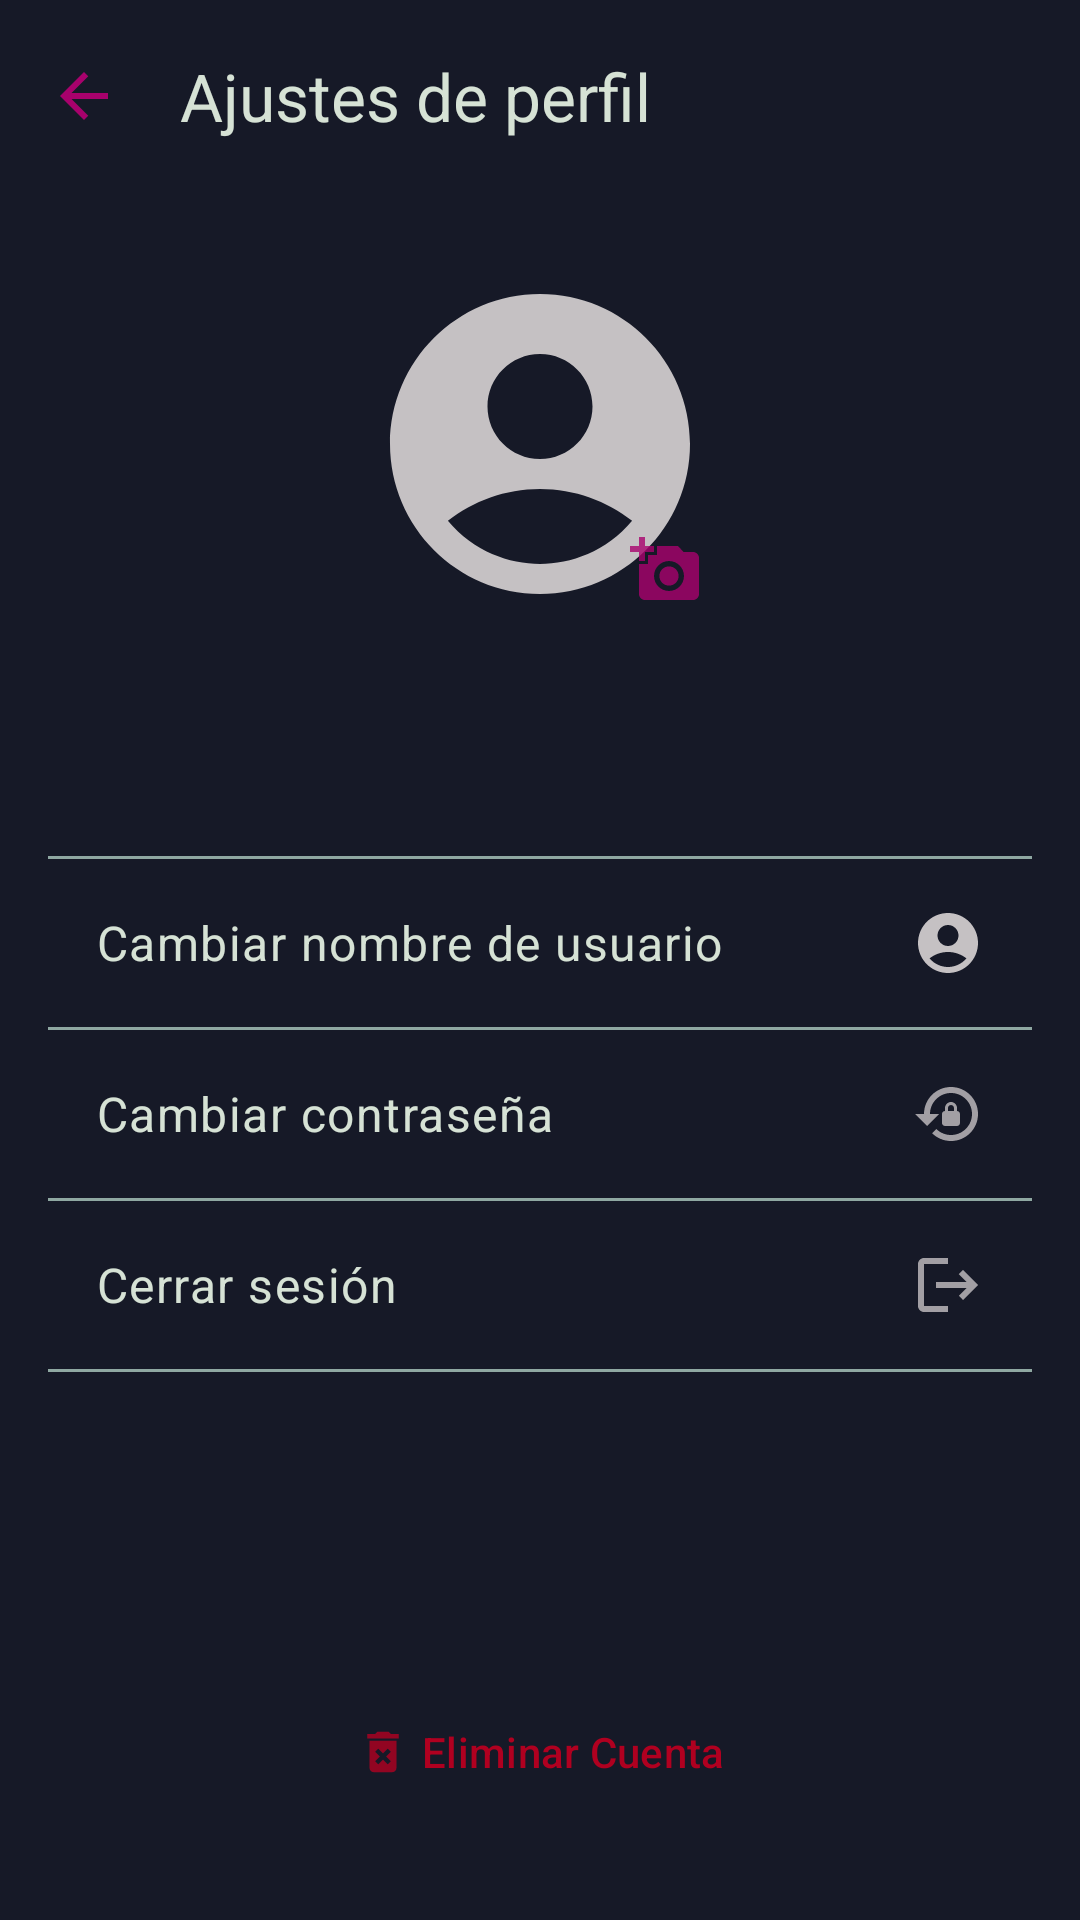

Icon bounding boxes for this 1080×1920 phone screenshot, format (x1, y1, x2, y2):
Cambiar foto de perfil: (639, 546, 699, 600)
